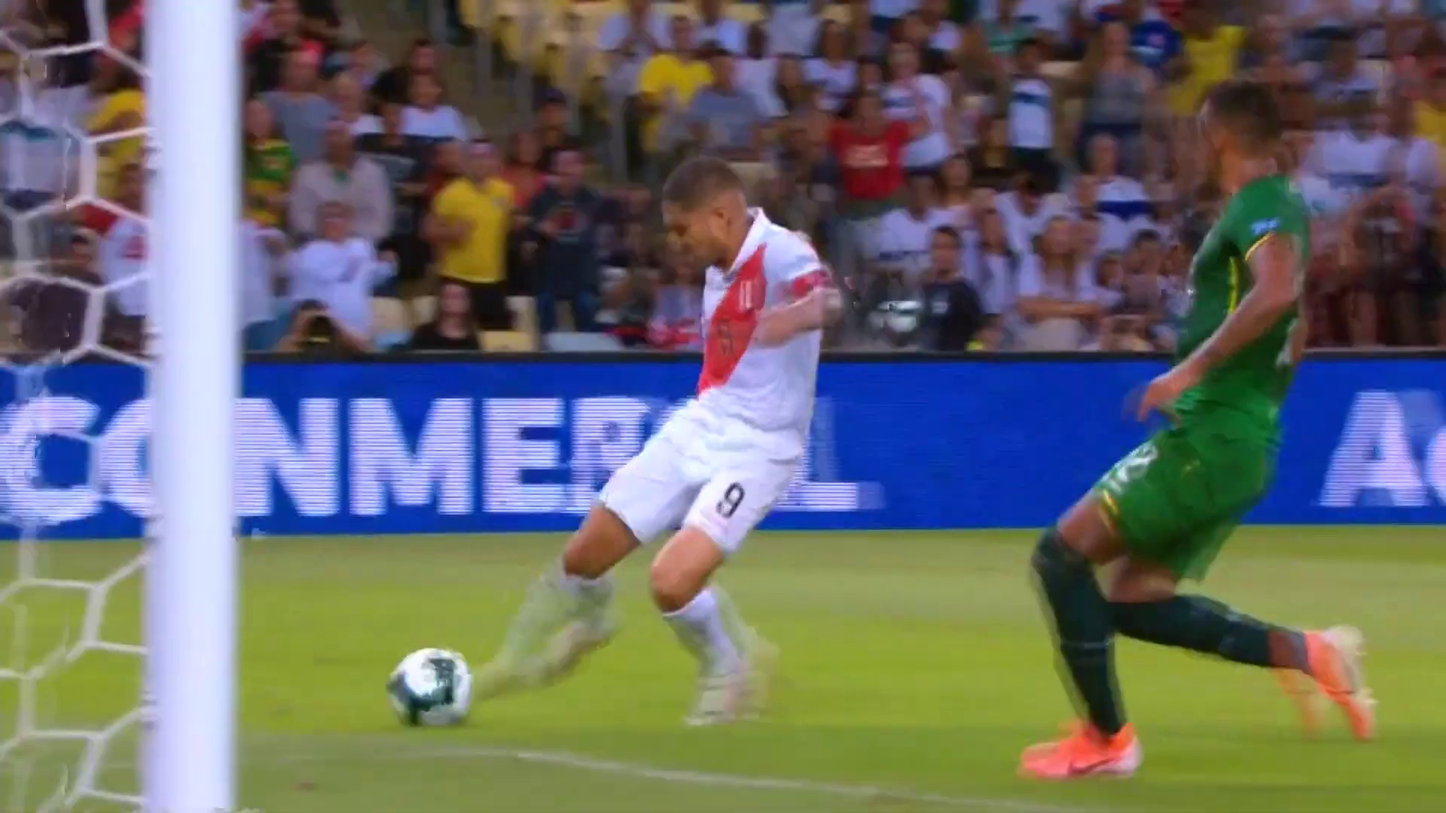ball: (382, 644, 478, 733)
player: (1003, 70, 1424, 779), (460, 150, 848, 716)
